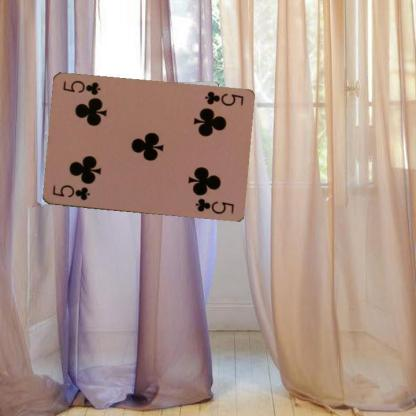5c: (50, 183, 91, 202), (202, 89, 244, 107)
